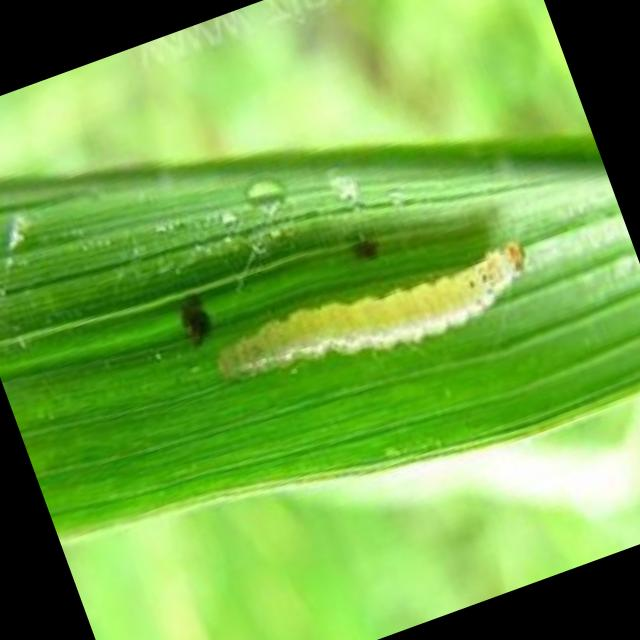leaf-folder: (203, 196, 572, 446)
